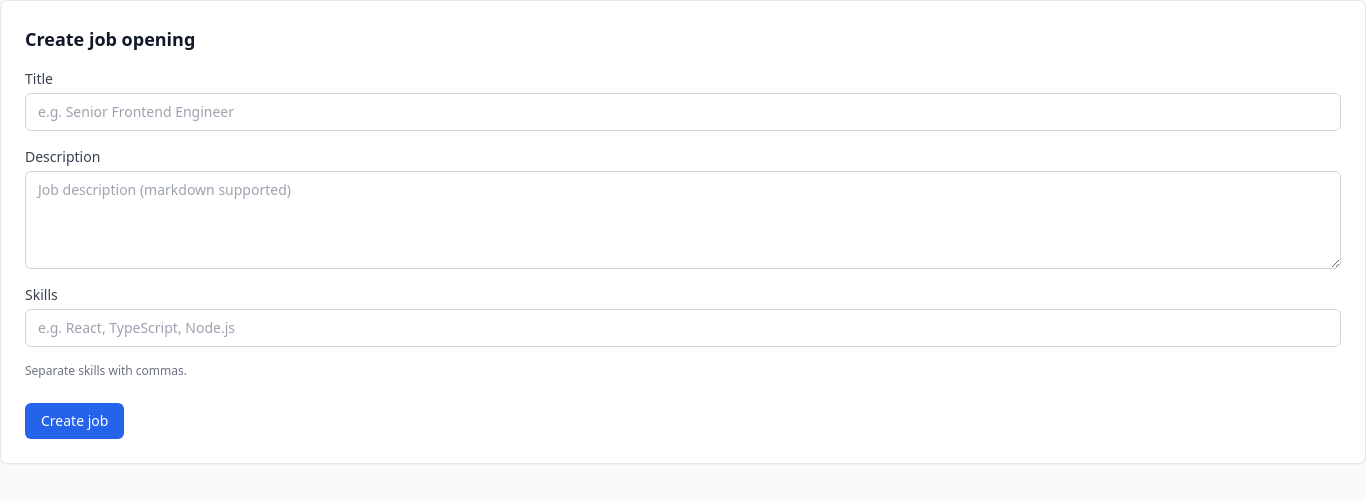
Test case: JobForm › validates that title is required
The image size is (1366, 501).
Step 1. Click the button "Create job" → {"x": 75, "y": 421}, box x1=25 y1=403 x2=124 y2=439
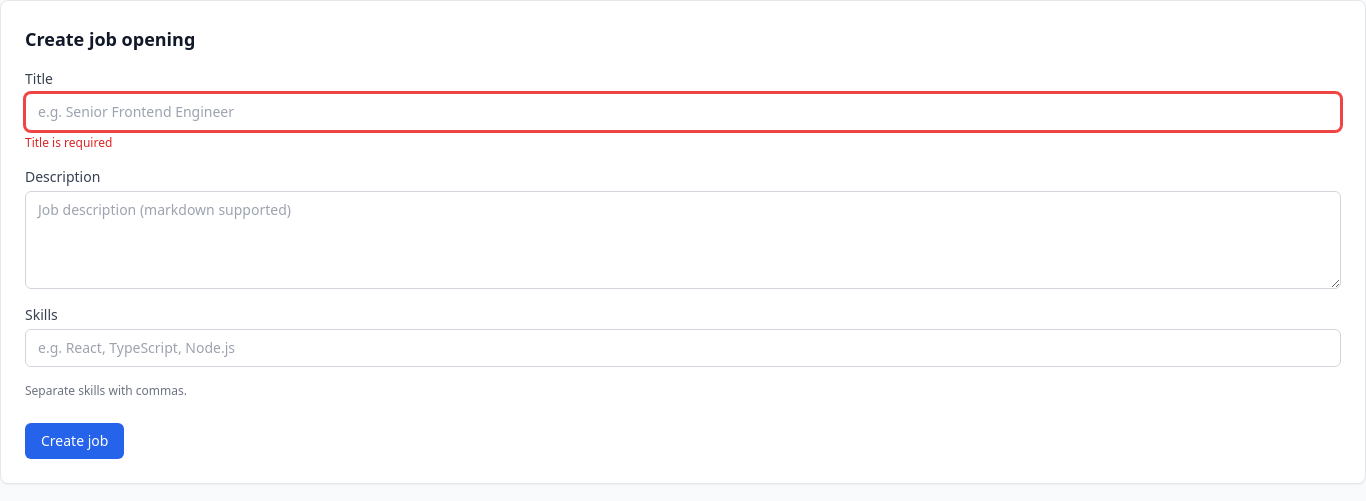
Expected: the text "Title is required" is shown, x1=25 y1=134 x2=112 y2=151
